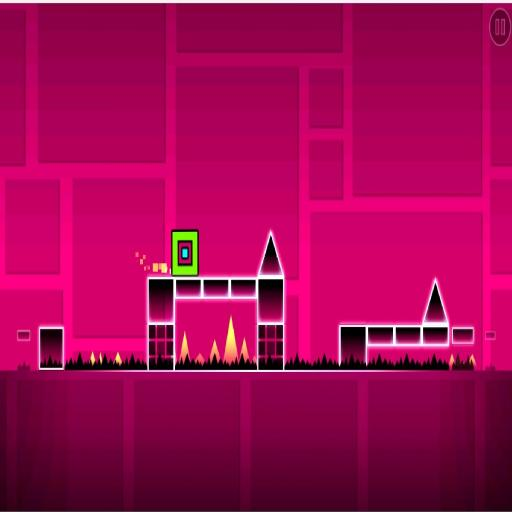block: (144, 273, 287, 376), (338, 322, 452, 375), (38, 326, 64, 368), (451, 325, 473, 346), (16, 329, 30, 342), (486, 331, 502, 340)
player: (171, 231, 198, 275)
spike: (423, 280, 447, 324), (258, 234, 281, 274), (224, 316, 237, 362), (179, 332, 189, 362), (210, 340, 222, 362), (240, 338, 249, 359), (196, 354, 204, 363), (449, 355, 454, 369), (115, 352, 121, 362), (470, 355, 475, 366), (90, 353, 93, 364)
